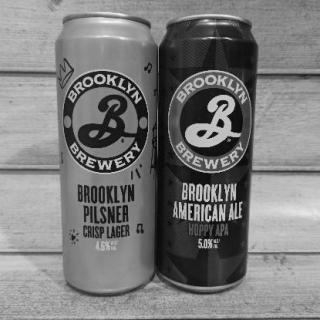alumunium_can: (52, 10, 162, 302), (158, 9, 264, 299)
